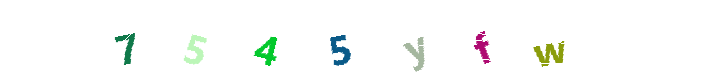4: (227, 0, 307, 80)
5: (205, 0, 285, 80), (317, 0, 397, 80)
7: (205, 0, 285, 80)
F: (442, 0, 522, 80)
W: (510, 0, 590, 80)
Y: (363, 0, 443, 80)
